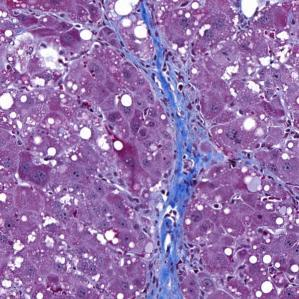fibrosis: (158, 68, 212, 190), (148, 209, 185, 292)
